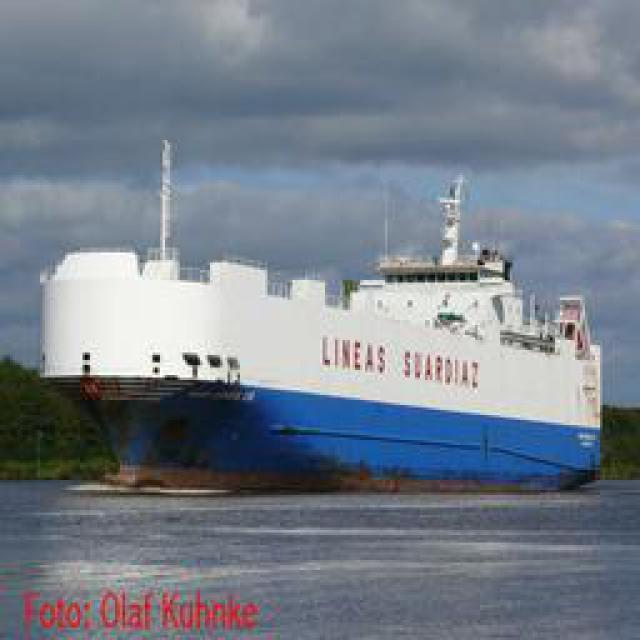Ship: (40, 169, 598, 494)
